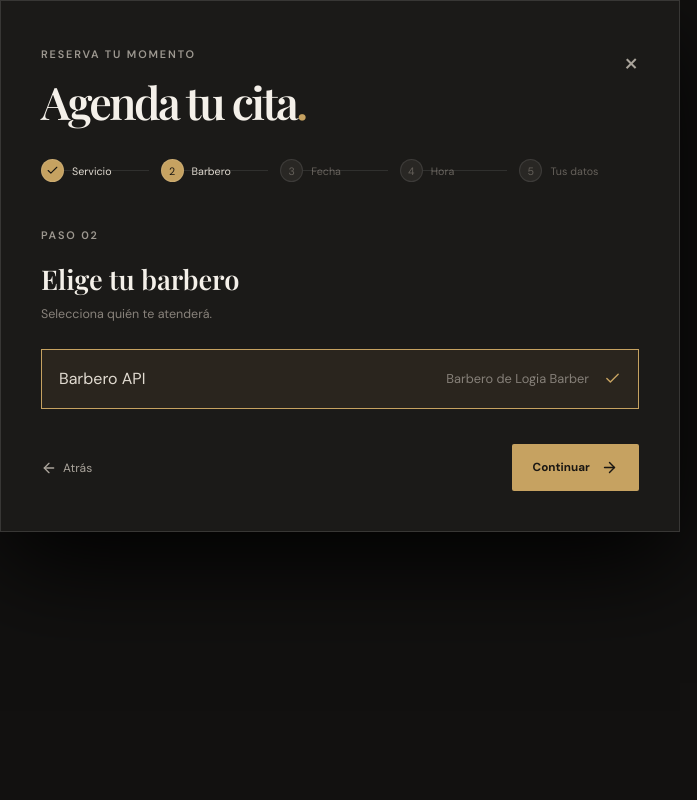
Test: preserves the exact timestamp 2026-10-05T10:30:00-05:00 for POST and formats summary/confirmation
Click the button "Continuar": (575, 468) [512,444,639,491]
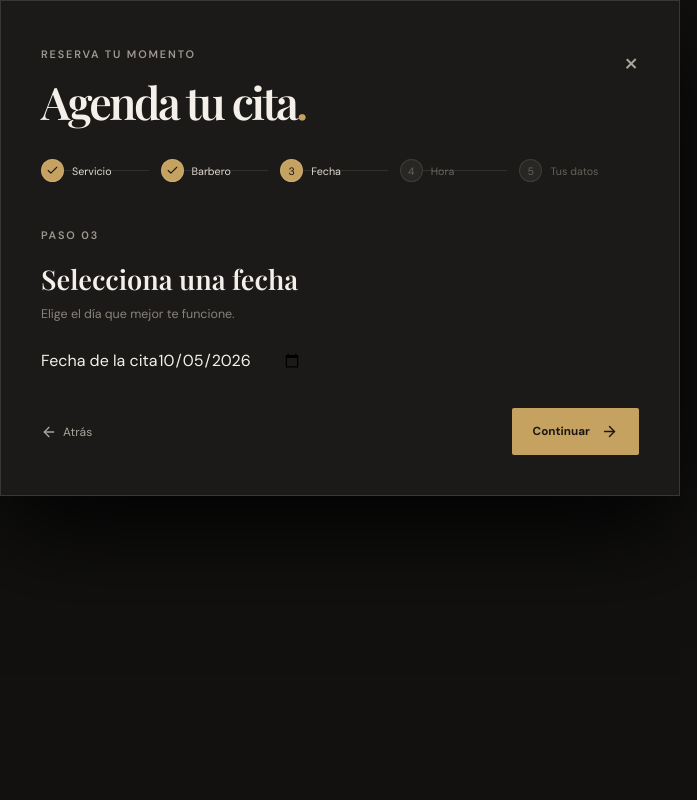
Click the button "Continuar": (575, 432) [512,408,639,455]
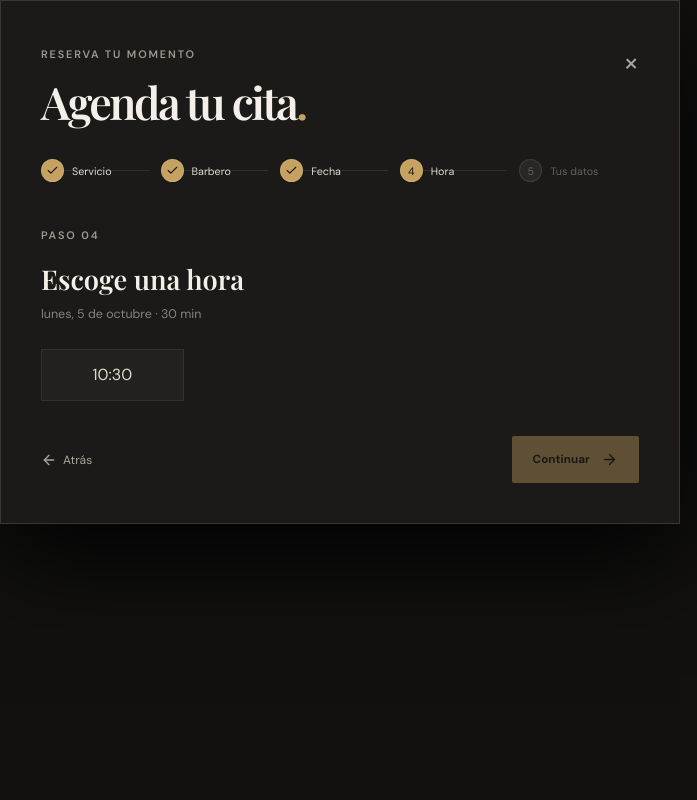
Click the button "10:30": (112, 375) [41,349,184,401]
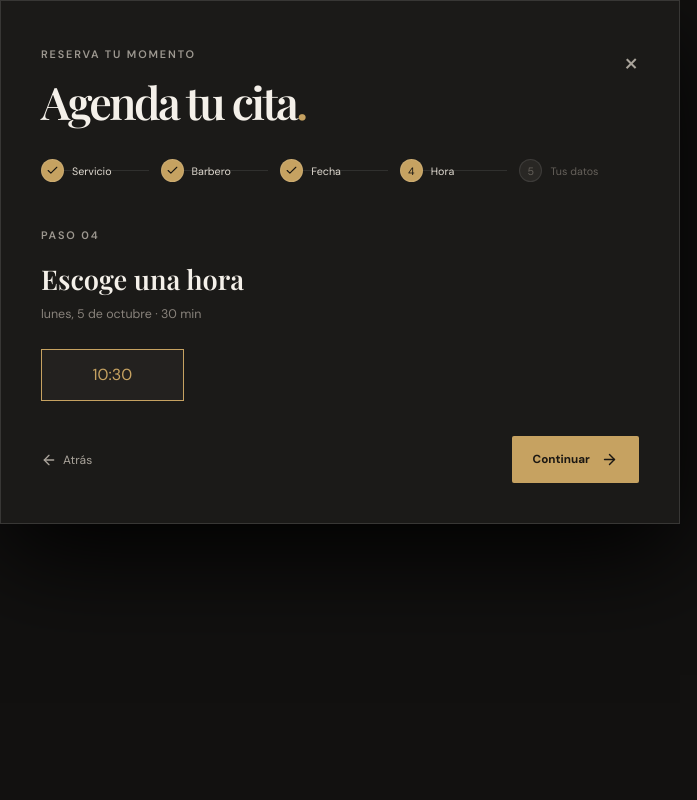
Click the button "Continuar": (575, 460) [512,436,639,483]
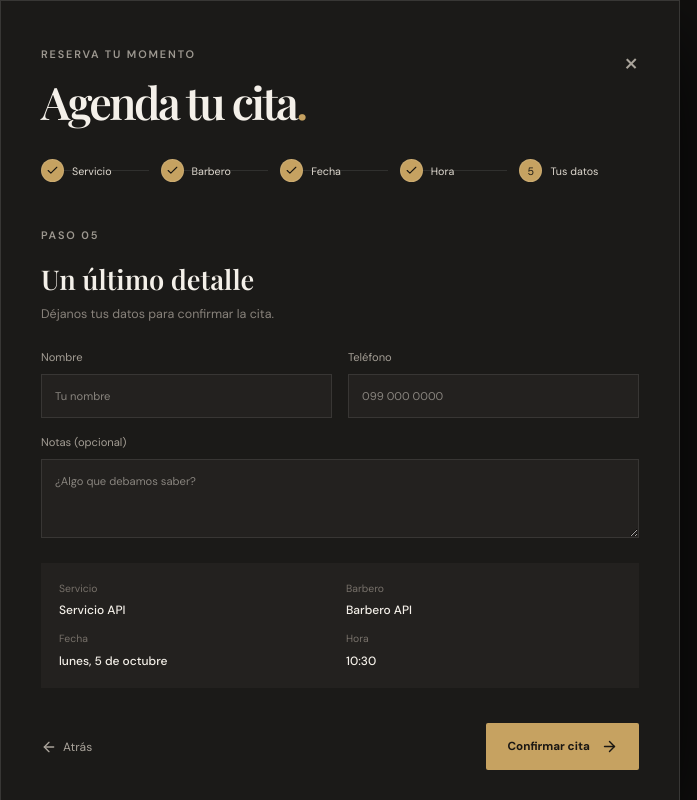
Result: the text "10:30" is shown at [346,653,376,669]
Result: the text "lunes, 5 de octubre" is shown at [59,653,168,669]
In the field labelled "Nombre": (186, 396) [41,374,332,418], type "Cliente P1.2"
In the field labelled "Teléfono": (494, 396) [348,374,639,418], type "0990000000"
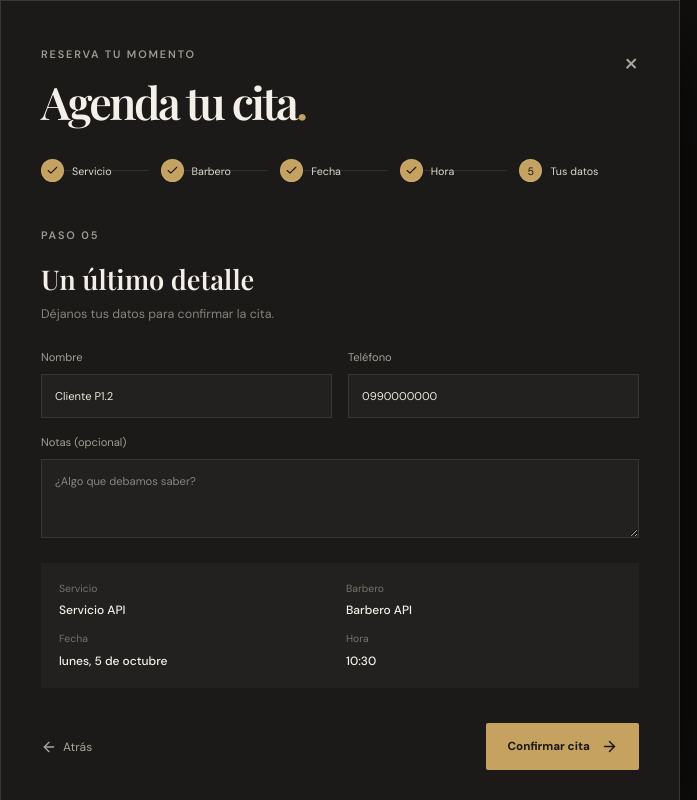
Click the button "Confirmar cita": (563, 747) [486,723,639,770]
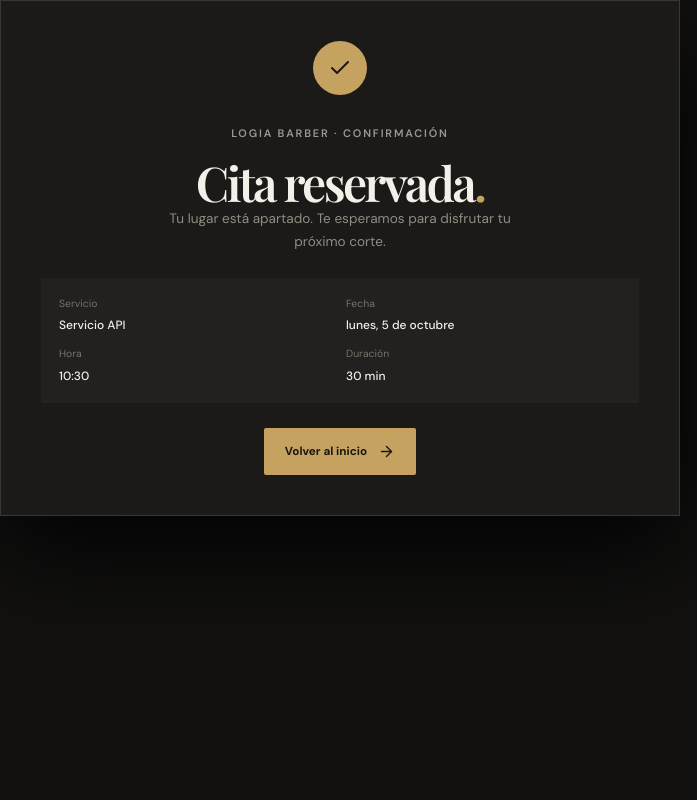
Result: the heading "Cita reservada." is shown at [196,150,484,214]
Result: the text "10:30" is shown at [59,368,89,384]
Result: the text "lunes, 5 de octubre" is shown at [346,317,454,333]
